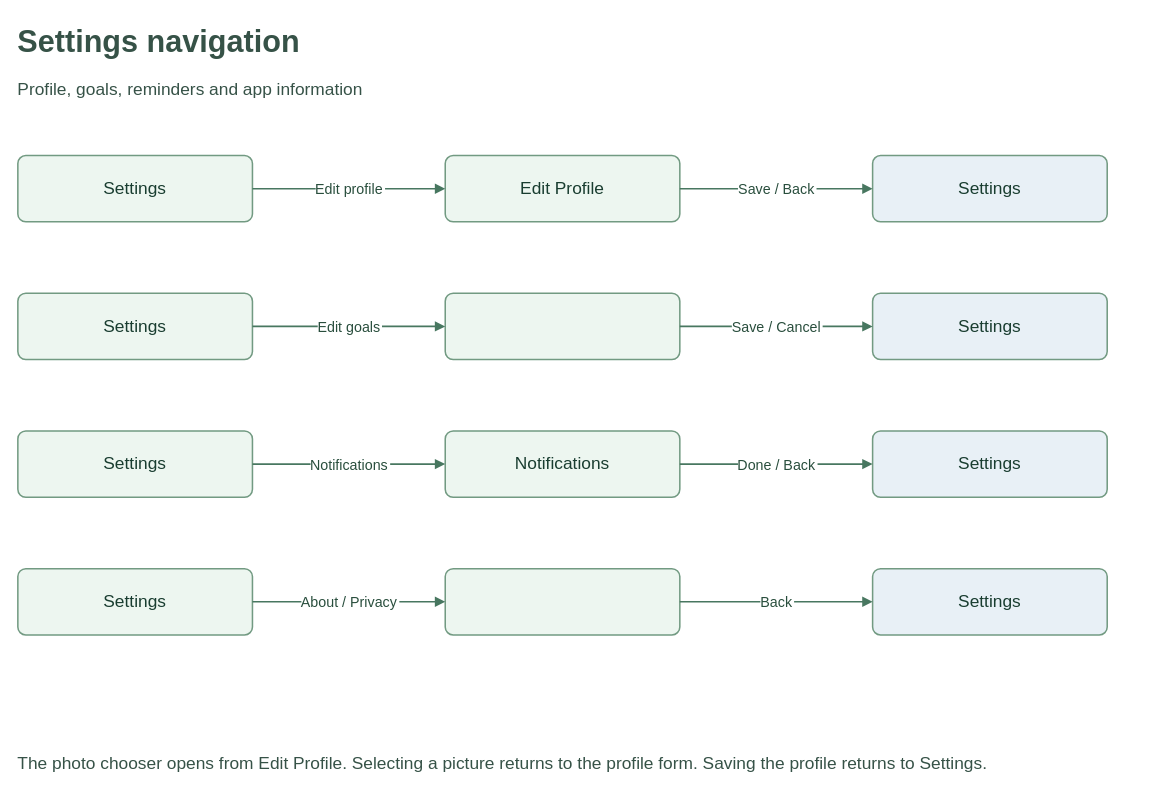
The diagram is 1168 pixels wide and 804 high, and some of its shapes have lost their labels. The centre of each missing label's shape, as x and y in pixels:
"About and Privacy" belongs at point (562, 601).
"Daily Goals" belongs at point (562, 326).
